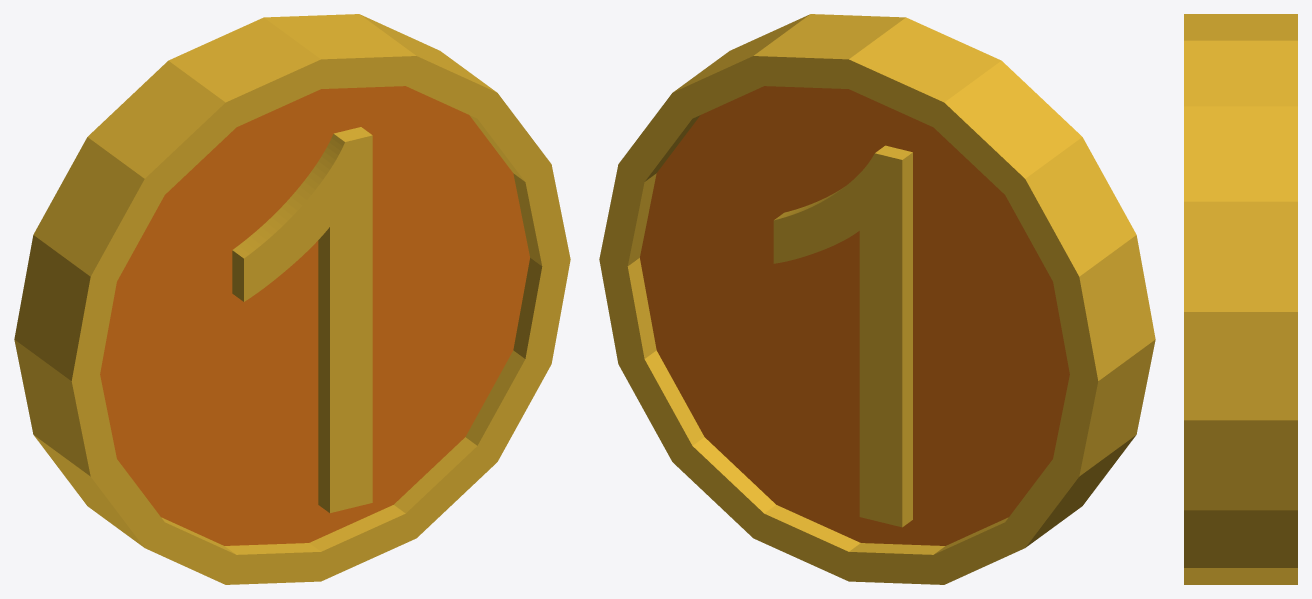
The model's file is OneCoin.fbx.
3 renders of one model, left to right at view 1: azimuth 30°, elevation 25°; view 2: azimuth 150°, elevation 25°; view 3: azimuth 270°, elevation 25°, orthographic.
Parts seen in each view (by area): view 1: OneCoin; view 2: OneCoin; view 3: OneCoin.
Boxes of the visible parts, x1,y1,x2,y2 form: OneCoin: (14,14,570,584); OneCoin: (599,14,1155,584); OneCoin: (1184,14,1297,584).
Bounding box in the file's own units: 84.1 × 84.1 × 16.74.
